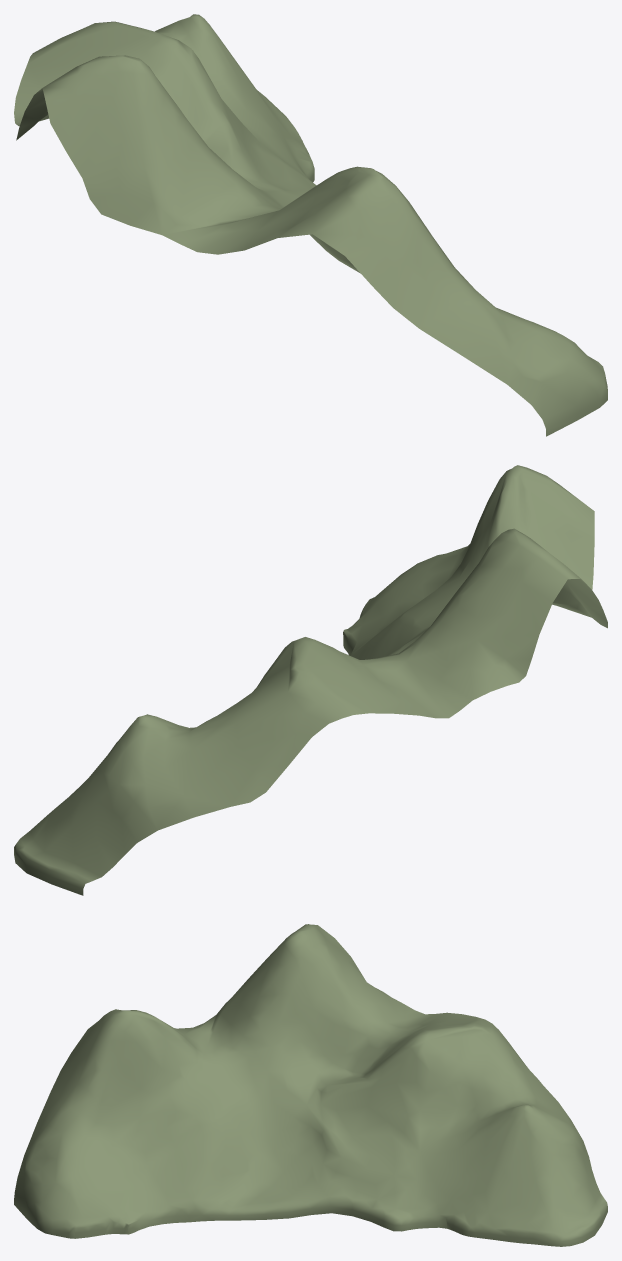
File: mountain.fbx
3 renders of one model, top to bottom at view 1: azimuth 30°, elevation 25°; view 2: azimuth 150°, elevation 25°; view 3: azimuth 270°, elevation 25°, orthographic. The views are drawn at different scales.
Visible parts, largest first — view 1: mountain_curve3; view 2: mountain_curve3; view 3: mountain_curve3.
Boxes of the visible parts, <box> form: mountain_curve3: <box>14,14,607,436</box>; mountain_curve3: <box>14,465,607,895</box>; mountain_curve3: <box>14,924,607,1246</box>.
Bounding box in the file's own units: 1622 × 1051 × 2845.
